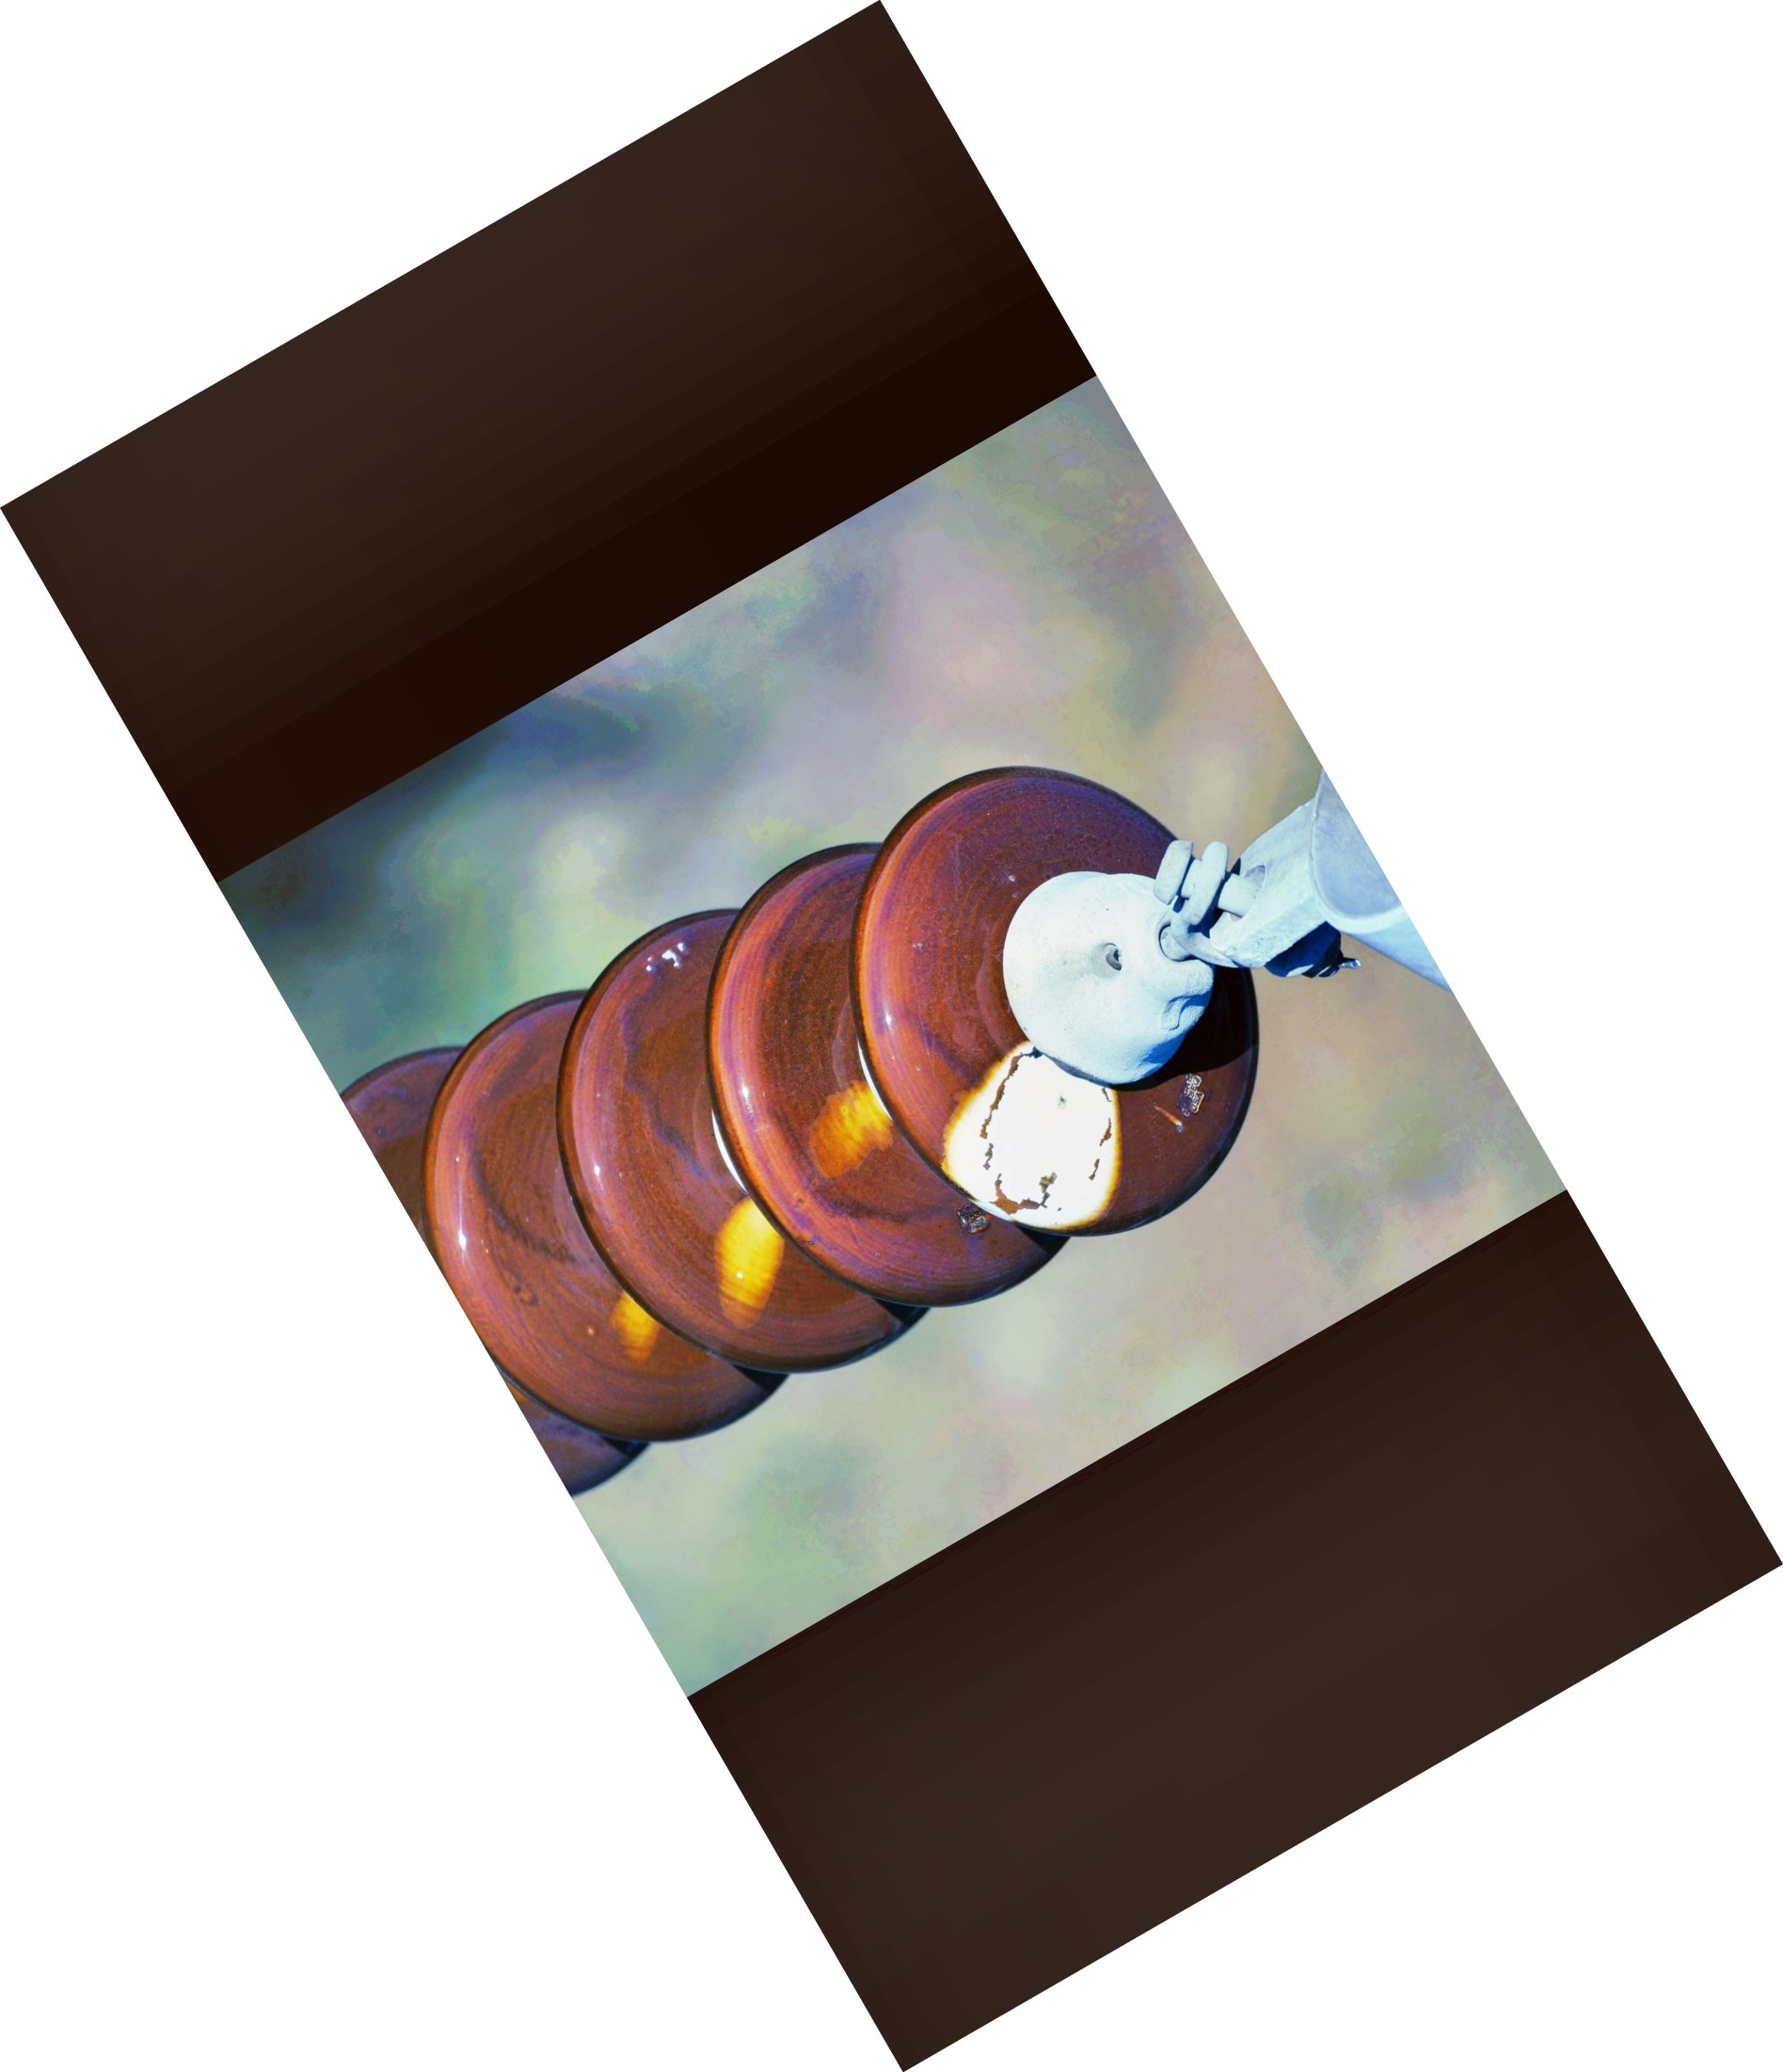Insulator flashover: (839, 752, 1290, 1254)
